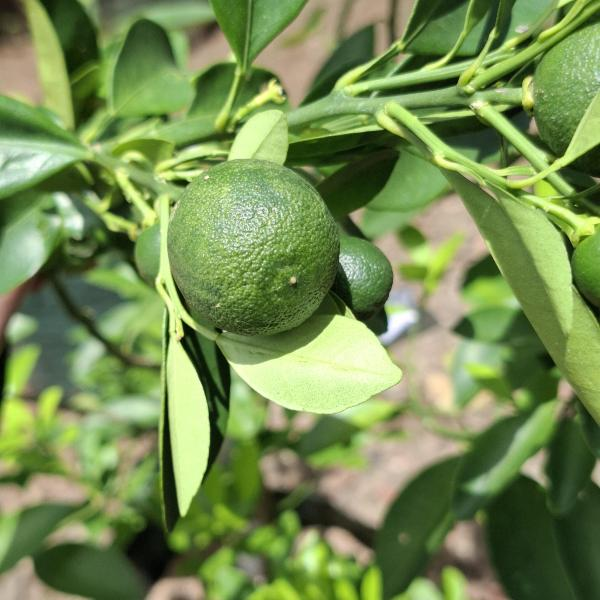Scab: (166, 156, 343, 347)
